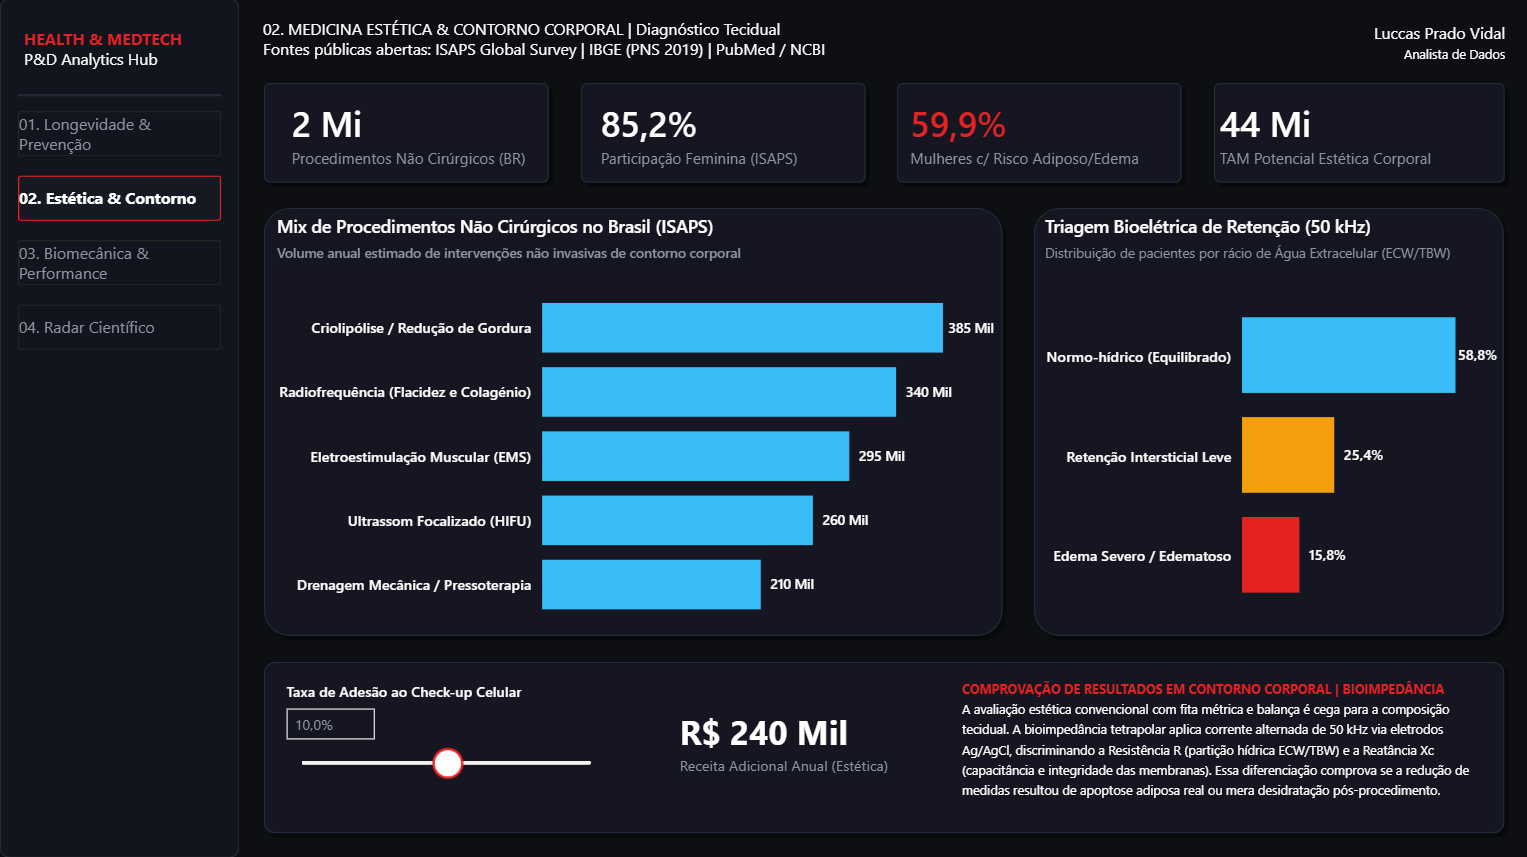

This screenshot's page, from the dashboard's own definition file:
{"tool":"powerbi","page":{"name":"02. Estética & Contorno","canvas":[1280,720],"ordinal":1},"visuals":[{"type":"shape","box":[0,0,200.1,720],"z":0},{"type":"shape","box":[215,65,250,95],"z":0,"group":"g1"},{"type":"group","id":"g1","title":"Grupo 1","box":[215,65,1050,640],"z":1000},{"type":"shape","box":[745,65,250,95],"z":1000,"group":"g1"},{"type":"textbox","box":[215,12,700,45],"z":2000},{"type":"shape","box":[1010,65,255,95],"z":2000,"group":"g1"},{"type":"textbox","box":[920,15,345,46],"z":3000},{"type":"shape","box":[215,170,630,370],"z":3000,"group":"g1"},{"type":"textbox","box":[15,20,150,50],"z":4000},{"type":"shape","box":[480,65,250,95],"z":4000,"group":"g1"},{"type":"shape","box":[15,75,170,12],"z":5000},{"type":"shape","box":[215,550,1050,155],"z":5000,"group":"g1"},{"type":"pageNavigator","box":[15,95,170,200],"z":6000},{"type":"shape","box":[860,170,405,370],"z":6000,"group":"g1"},{"type":"cardVisual","fields":{"Data":["_Medidas.Mercado Procedimentos Nao Invasivos (ISAPS)","_Medidas.Proporção Feminina Mercado Estético (%)","_Medidas.Prevalencia Feminina Risco Corporal (%)","_Medidas.TAM Estetica Corporal (Mulheres)"]},"box":[215.2,64.9,1064.8,95.5],"z":7000},{"type":"clusteredBarChart","title":"Mix de Procedimentos Não Cirúrgicos no Brasil (ISAPS)","fields":{"Category":["d_Procedimentos_Estetica.Procedimento"],"Y":["Sum(d_Procedimentos_Estetica.Volume_Anual)"]},"box":[227.2,180.9,610.3,359],"z":8000},{"type":"clusteredBarChart","title":"Triagem Bioelétrica de Retenção (50 kHz)","fields":{"Category":["d_Matriz_Retencao_BIA.Classificacao_Hidrica"],"Y":["Sum(d_Matriz_Retencao_BIA.Prevalencia_Clinica)"]},"box":[870,180.9,388.6,359],"z":9000},{"type":"textbox","box":[800.1,563.5,451,129.9],"z":9003,"group":"g1"},{"type":"slicer","fields":{"Values":["p_Adesao_Checkup_Celular.p_Adesao_Checkup_Celular"]},"box":[227.1,567.1,289.4,120.4],"z":10000},{"type":"cardVisual","fields":{"Data":["_Medidas.Receita Anual Checkup BIA (Simulado)"]},"box":[540,560,240,125],"z":11000}]}

Visuals, with their boxes in screenshot pixels (x1, y1, x2, y2), scaled from the page's 1280x720 canvas onto the 1527x857 screenshot:
shape: x1=0 y1=0 x2=239 y2=856
shape: x1=256 y1=77 x2=555 y2=190
"Grupo 1" group: x1=256 y1=77 x2=1509 y2=839
shape: x1=889 y1=77 x2=1187 y2=190
textbox: x1=256 y1=14 x2=1092 y2=68
shape: x1=1205 y1=77 x2=1509 y2=190
textbox: x1=1098 y1=18 x2=1509 y2=73
shape: x1=256 y1=202 x2=1008 y2=643
textbox: x1=18 y1=24 x2=197 y2=83
shape: x1=573 y1=77 x2=871 y2=190
shape: x1=18 y1=89 x2=221 y2=104
shape: x1=256 y1=655 x2=1509 y2=839
pageNavigator: x1=18 y1=113 x2=221 y2=351
shape: x1=1026 y1=202 x2=1509 y2=643
cardVisual - _Medidas.Mercado Procedimentos Nao Invasivos (ISAPS) x _Medidas.Proporção Feminina Mercado Estético (%): x1=257 y1=77 x2=1526 y2=191
"Mix de Procedimentos Não Cirúrgicos no Brasil (ISAPS)" clusteredBarChart: x1=271 y1=215 x2=999 y2=643
"Triagem Bioelétrica de Retenção (50 kHz)" clusteredBarChart: x1=1038 y1=215 x2=1501 y2=643
textbox: x1=954 y1=671 x2=1493 y2=825
slicer - p_Adesao_Checkup_Celular.p_Adesao_Checkup_Celular: x1=271 y1=675 x2=616 y2=818
cardVisual - _Medidas.Receita Anual Checkup BIA (Simulado): x1=644 y1=667 x2=931 y2=815
